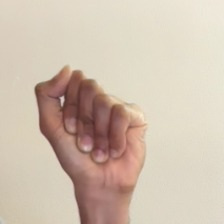A: (18, 52, 164, 207)
